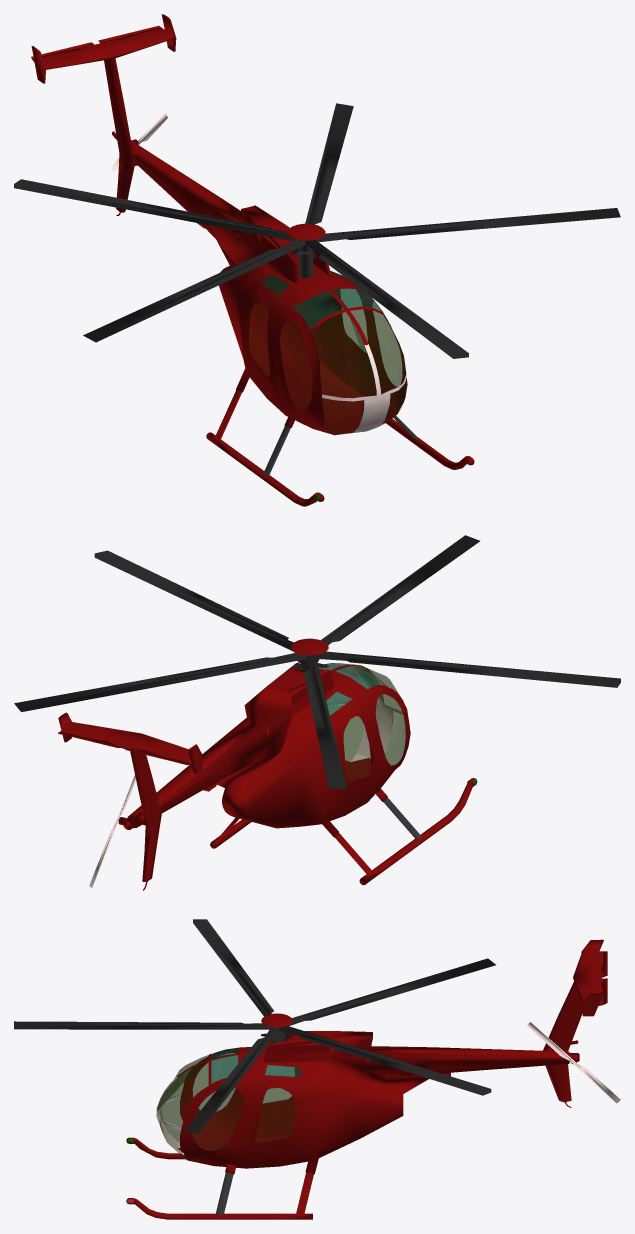
The model's file is HELICOPTER500D.obj.
3 renders of one model, top to bottom at view 1: azimuth 30°, elevation 25°; view 2: azimuth 150°, elevation 25°; view 3: azimuth 270°, elevation 25°, orthographic. The views are drawn at different scales.
Parts seen in each view (by area): view 1: (null); view 2: (null); view 3: (null).
Boxes of the visible parts, x1,y1,x2,y2 form: (null): (14, 14, 620, 506); (null): (14, 535, 620, 890); (null): (14, 919, 620, 1219).
Bounding box in the file's own units: 51167 × 24435 × 61536.
